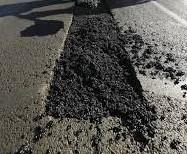pothole: (44, 2, 158, 137)
